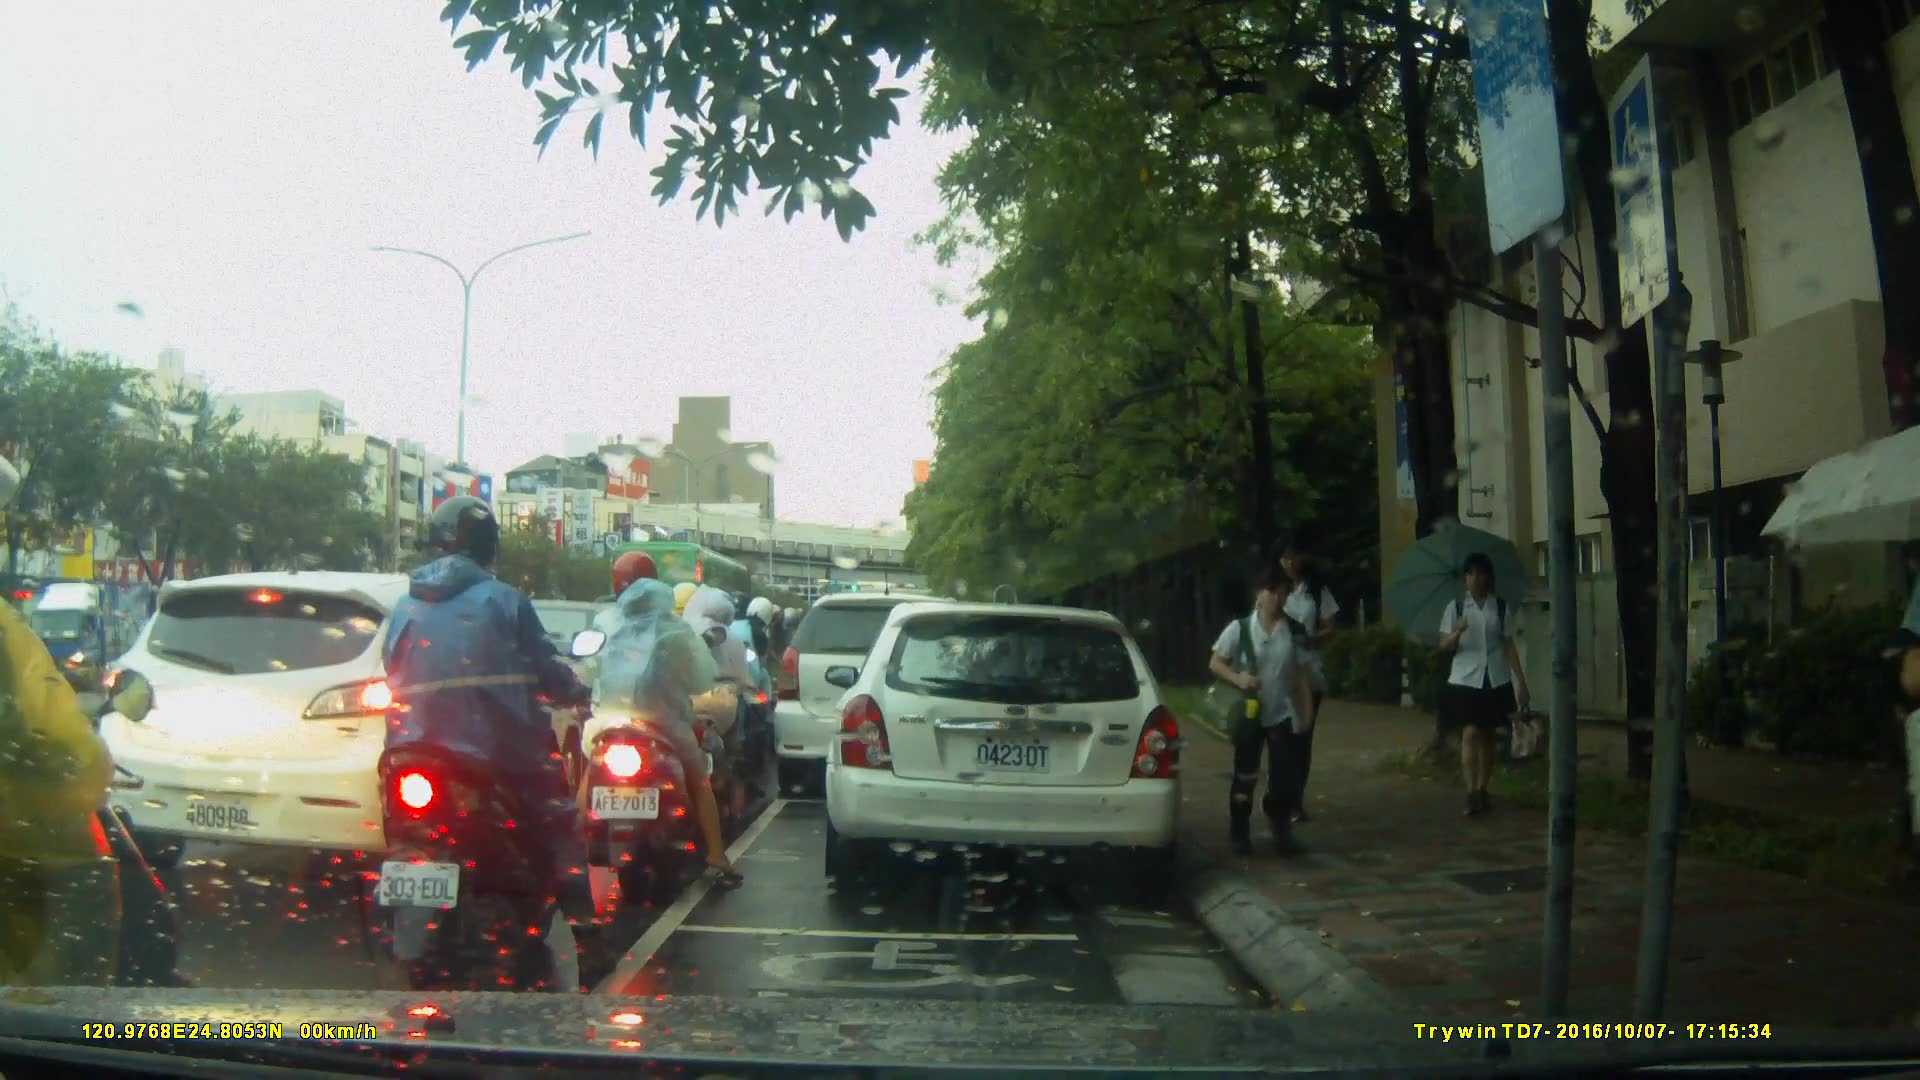pedestrian: (1207, 564, 1328, 852), (1423, 545, 1527, 824), (1257, 537, 1346, 832), (1901, 460, 1920, 1037)
rider: (377, 489, 612, 968), (1, 455, 181, 1080), (562, 554, 746, 903), (640, 578, 764, 823), (697, 594, 780, 776)
vehicle: (94, 569, 617, 883), (822, 604, 1187, 883), (774, 595, 995, 802), (20, 576, 199, 697)
